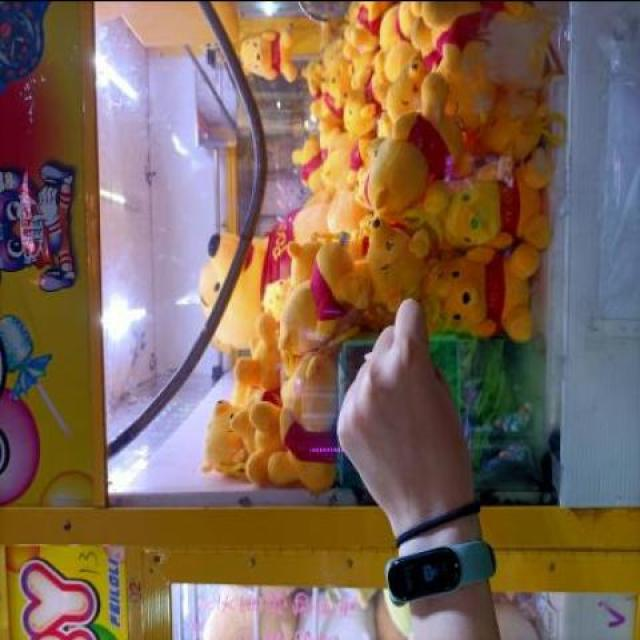fist: (337, 293, 486, 519)
